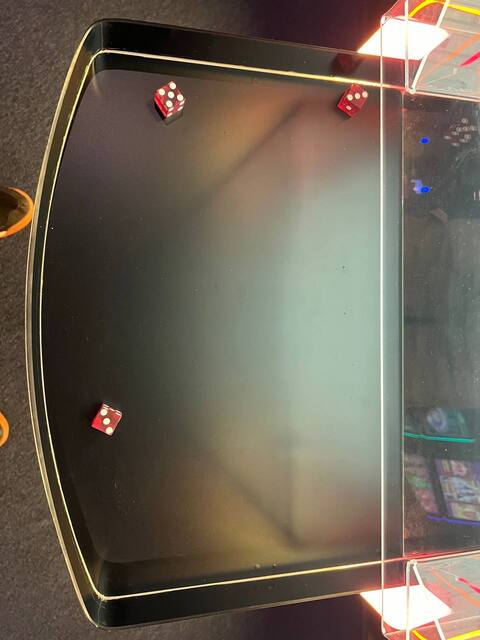five: (154, 78, 187, 111)
three: (87, 405, 124, 438), (342, 80, 370, 109)
